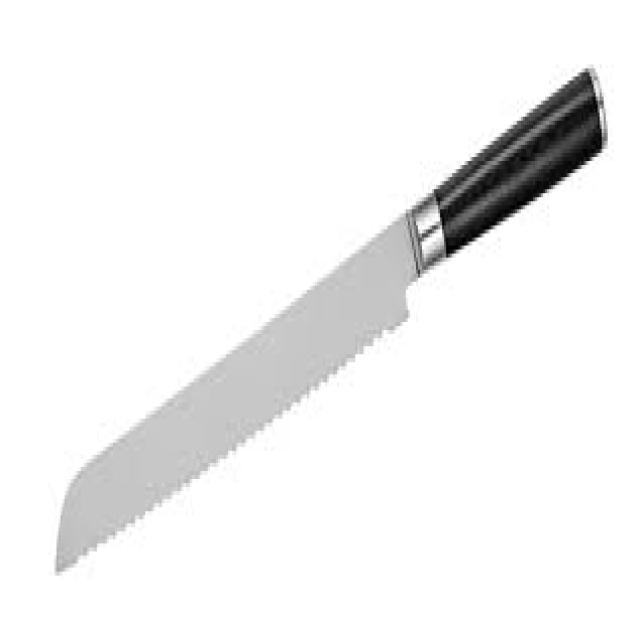Knife: (52, 64, 606, 568)
